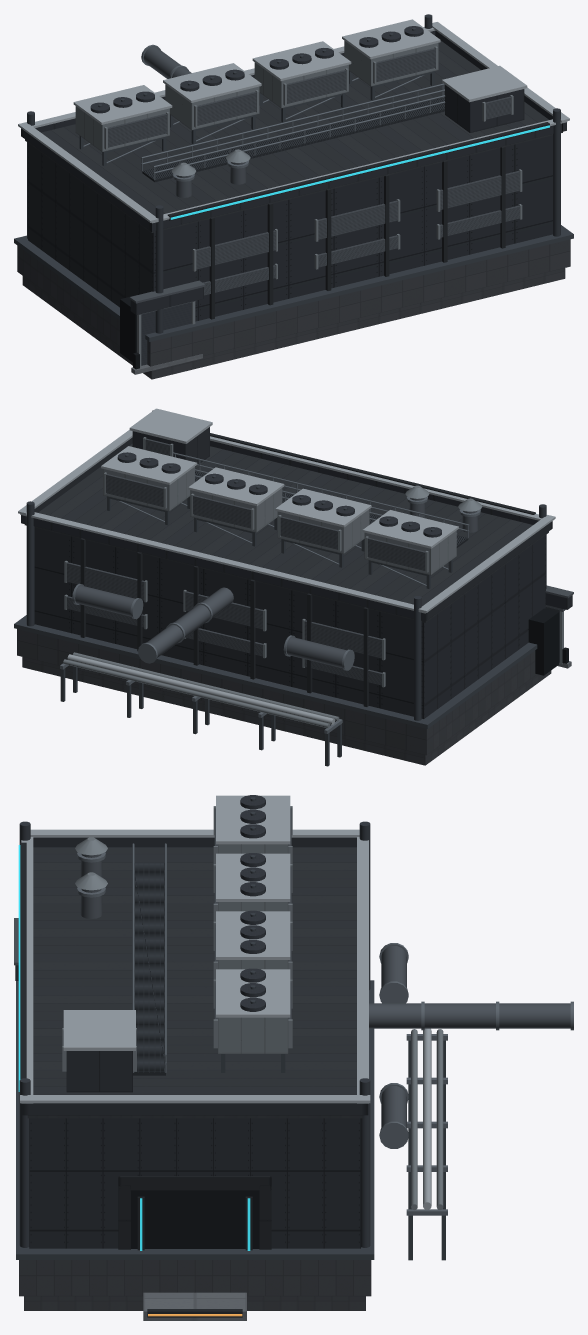
Rendered from trg-5-built.glb.
The picture shows the model from 3 angles, top to bottom: view 1: azimuth 30°, elevation 25°; view 2: azimuth 150°, elevation 25°; view 3: azimuth 270°, elevation 25°; orthographic projection. The views are drawn at different scales.
Bounding box in the file's own units: 34.47 × 14.28 × 27.02.
29 materials, 19 textured.
